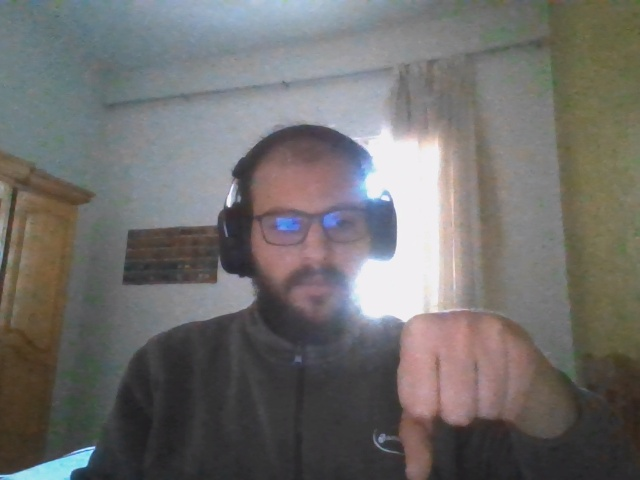Yes: (397, 313, 525, 480)
